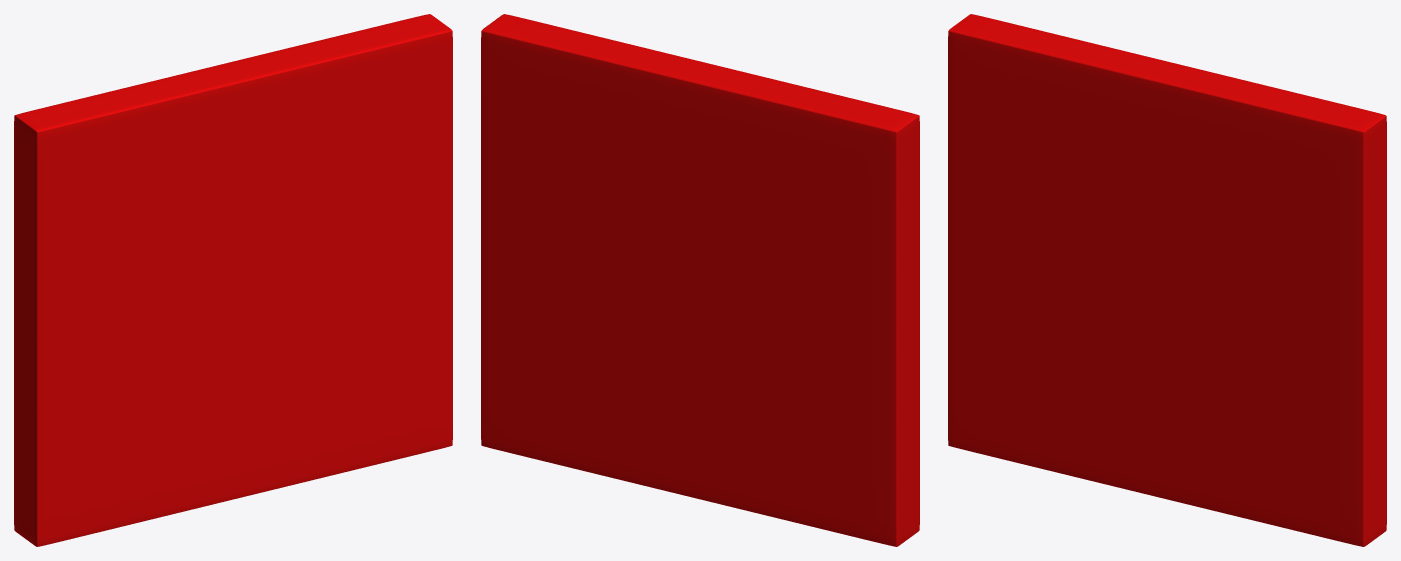
The model's file is Wall2.fbx.
The picture shows the model from 3 angles, left to right: view 1: azimuth 30°, elevation 25°; view 2: azimuth 150°, elevation 25°; view 3: azimuth 330°, elevation 25°; orthographic projection.
Visible parts, largest first — view 1: wall2; view 2: wall2; view 3: wall2.
Boxes of the visible parts, box(x1,y1,x2,y2) form: wall2: box(14, 14, 452, 546); wall2: box(481, 14, 919, 546); wall2: box(948, 14, 1386, 546).
Size of the model in its own units: 9.99 by 9.54 by 1.
